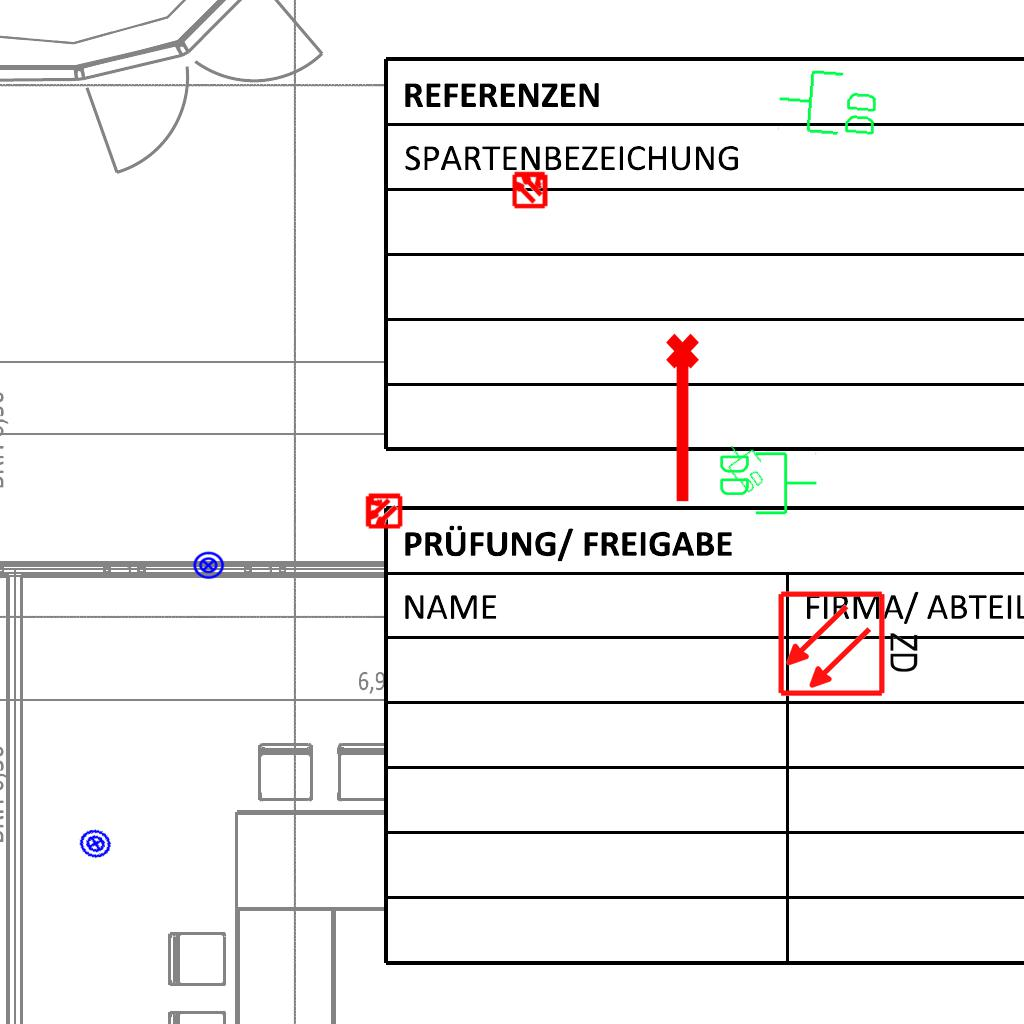ASR_Ansaugoeffnung: (662, 331, 708, 507)
Datenanschluss_zweifach: (774, 64, 883, 143), (716, 448, 819, 517), (716, 435, 775, 497)
OT_Multisensormelder_(Kombination_RMO_WMD): (502, 161, 558, 217), (355, 483, 411, 539)
Taster_beleuchtet: (75, 823, 116, 864), (192, 549, 225, 582)
ZD_Melder_in_Zwischendecke_mit_Revisionsoeffnung_mind_40_x_40_cm: (776, 585, 925, 699)
